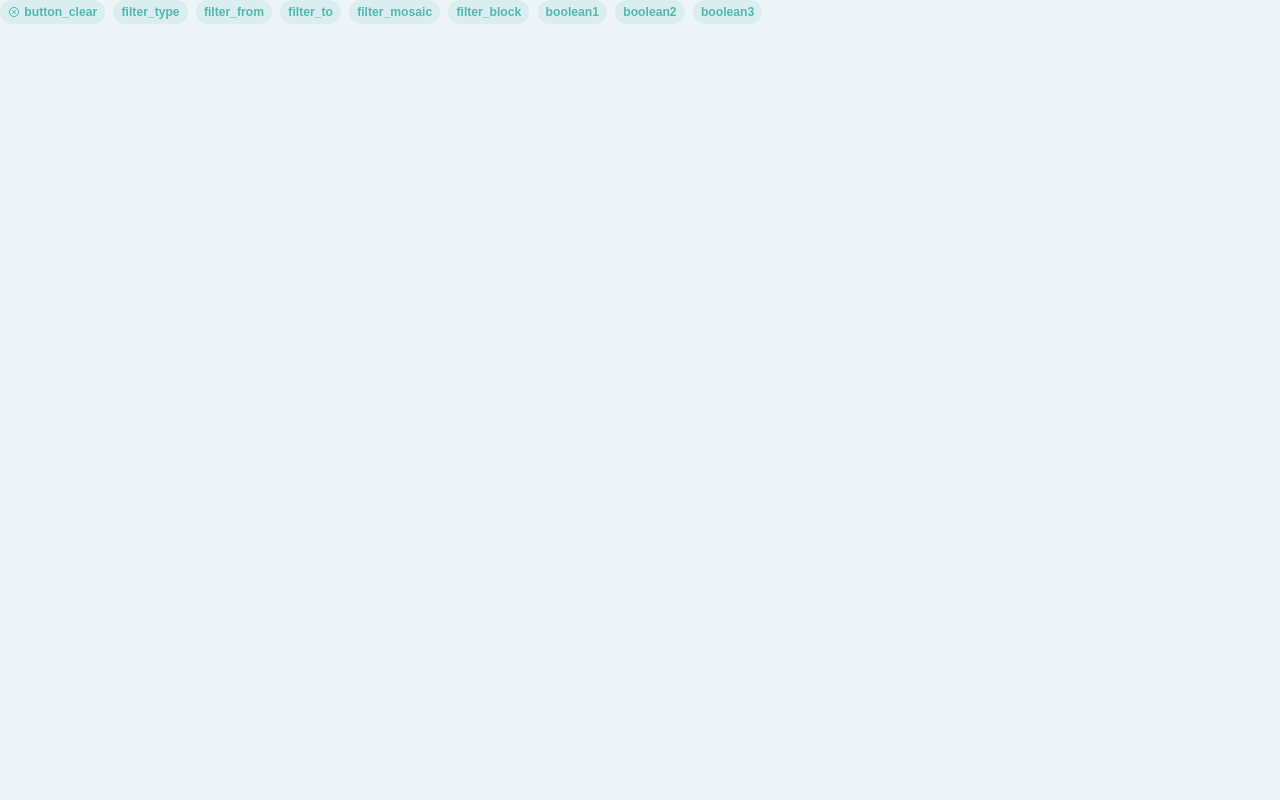
Test: Filter › filter options › renders block options
Click the button "filter_block" at (489, 12), box x1=448 y1=0 x2=529 y2=24
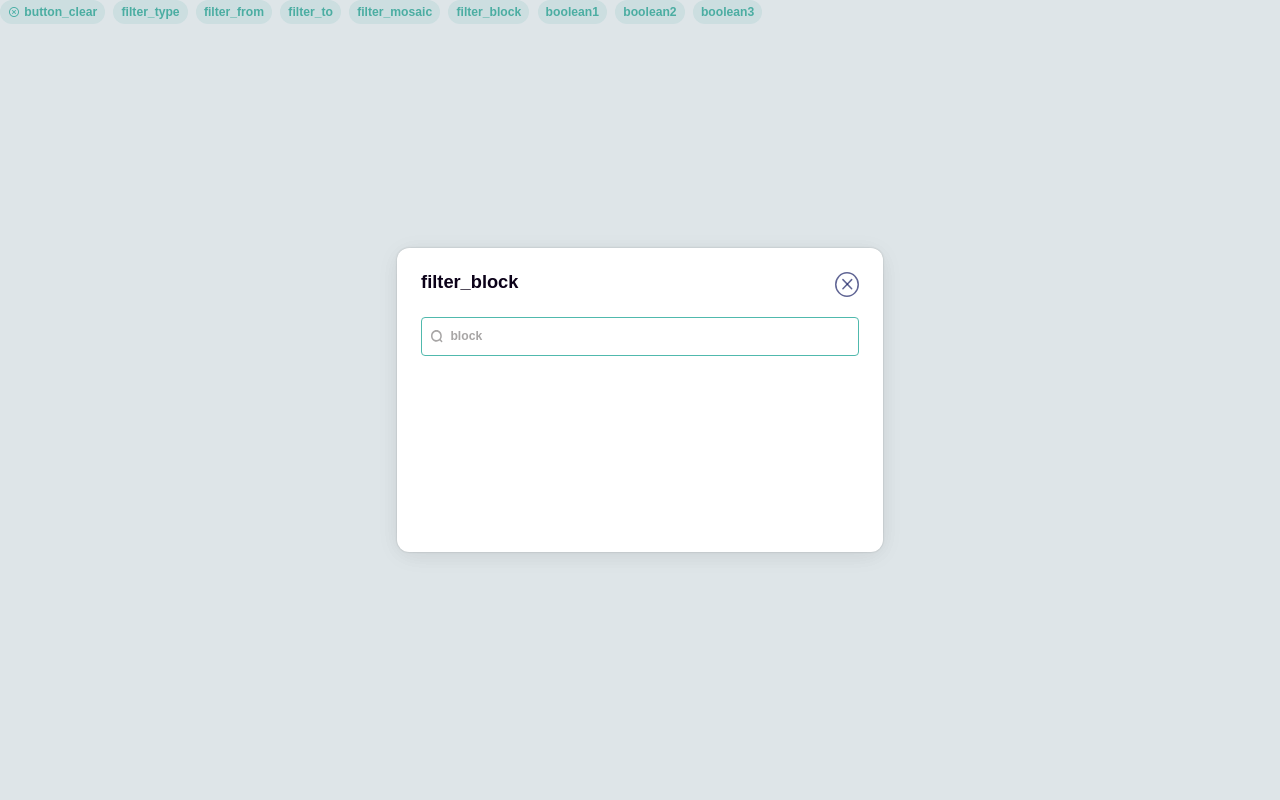
Check: the dialog is shown
Type "search-text-value" into the search field at (649, 337), box x1=448 y1=328 x2=850 y2=346
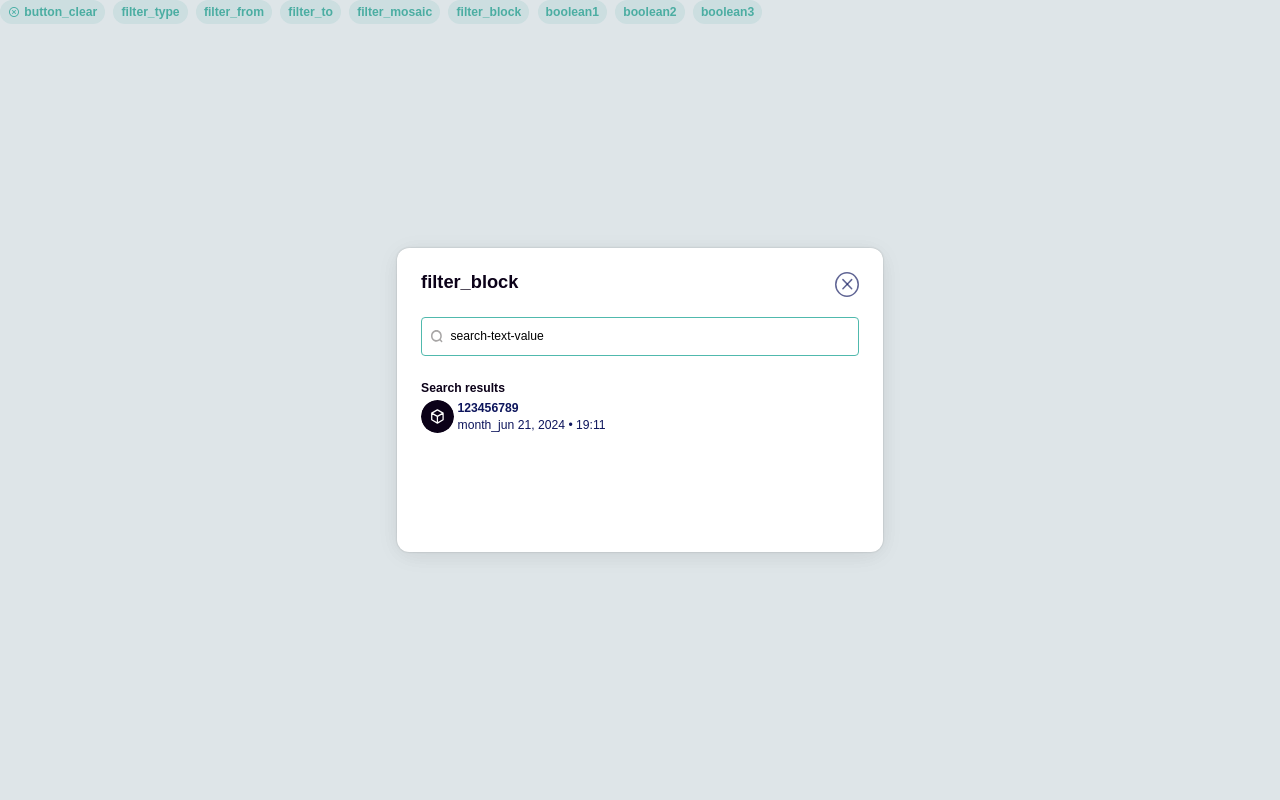
Check: the text "123456789" is shown
Click the text "123456789" at (488, 408), box x1=458 y1=401 x2=518 y2=415
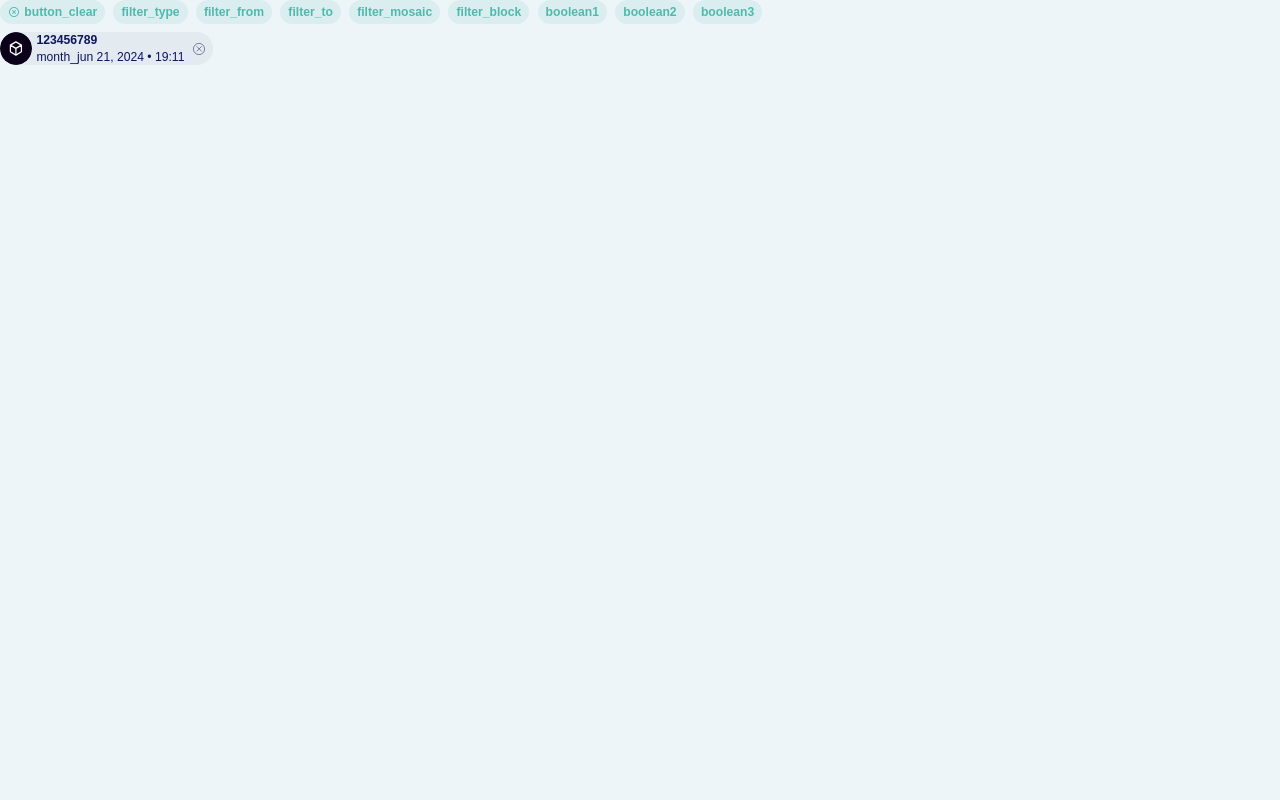
Check: the text "123456789" is shown, box x1=36 y1=33 x2=97 y2=47
Check: the dialog is gone
